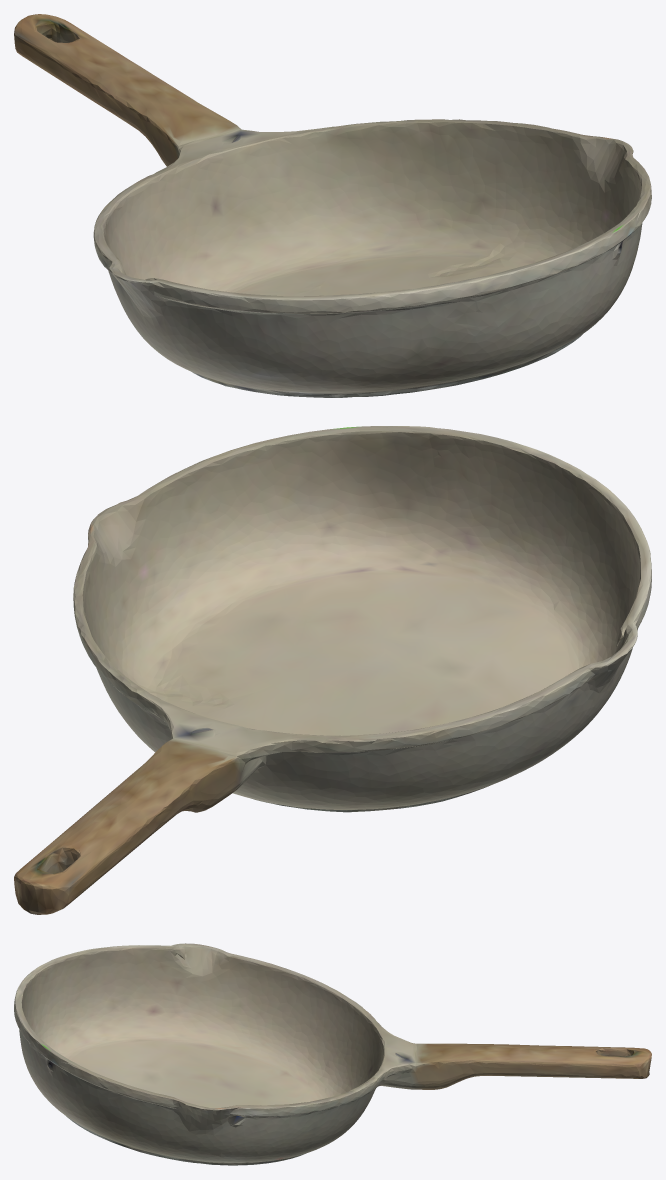
Rendered from scan.obj.
3 views of the same model, one above another, from view 1: azimuth 30°, elevation 25°; view 2: azimuth 150°, elevation 25°; view 3: azimuth 270°, elevation 25° (orthographic). The views are drawn at different scales.
Visible parts, largest first — view 1: scan.ply; view 2: scan.ply; view 3: scan.ply.
Boxes of the visible parts, x1,y1,x2,y2 form: scan.ply: (14,14,651,397); scan.ply: (14,426,651,914); scan.ply: (14,943,651,1165).
Bounding box in the file's own units: 0.3065 × 0.1025 × 0.4876.
